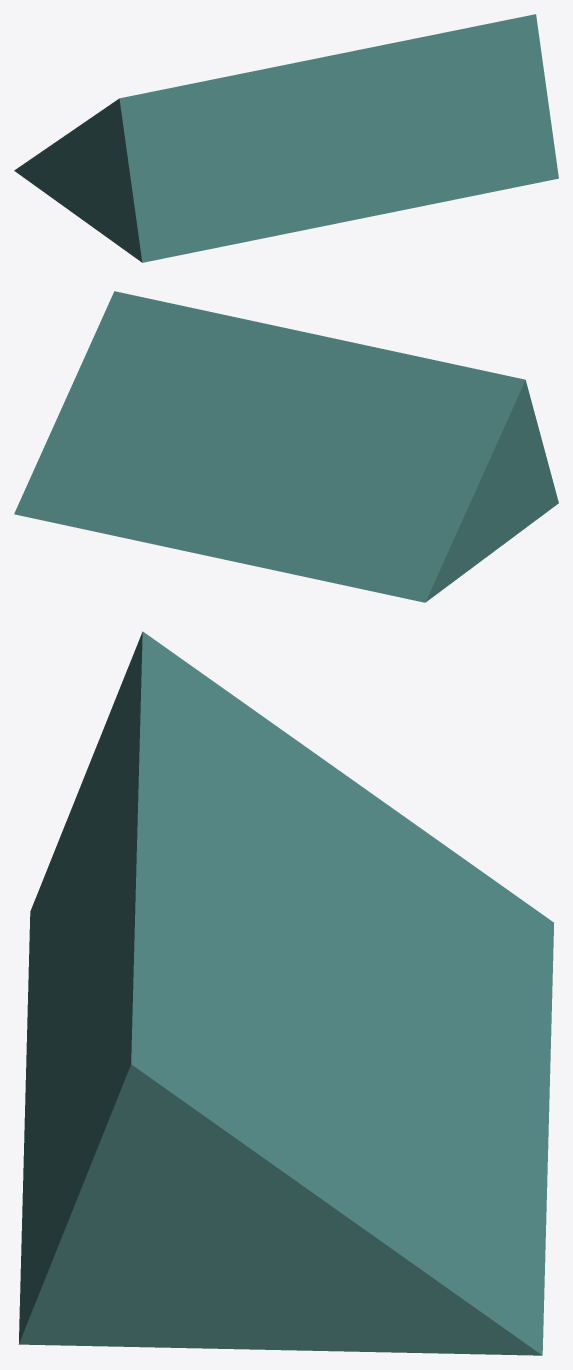
The model's file is iceblock.glb.
3 views of the same model, one above another, from view 1: azimuth 30°, elevation 25°; view 2: azimuth 150°, elevation 25°; view 3: azimuth 270°, elevation 25° (orthographic). The views are drawn at different scales.
Visible parts, largest first — view 1: Cylinder; view 2: Cylinder; view 3: Cylinder.
Boxes of the visible parts, box(x1,y1,x2,y2) form: Cylinder: box(14, 14, 558, 262); Cylinder: box(14, 291, 558, 602); Cylinder: box(18, 631, 553, 1355).
Bounding box in the file's own units: 2.01 × 0.7419 × 1.11.
